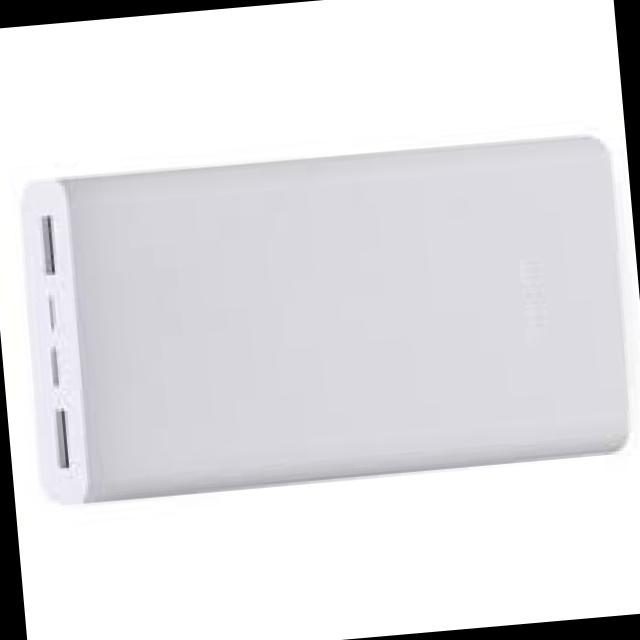portable-charger: (12, 124, 638, 507)
